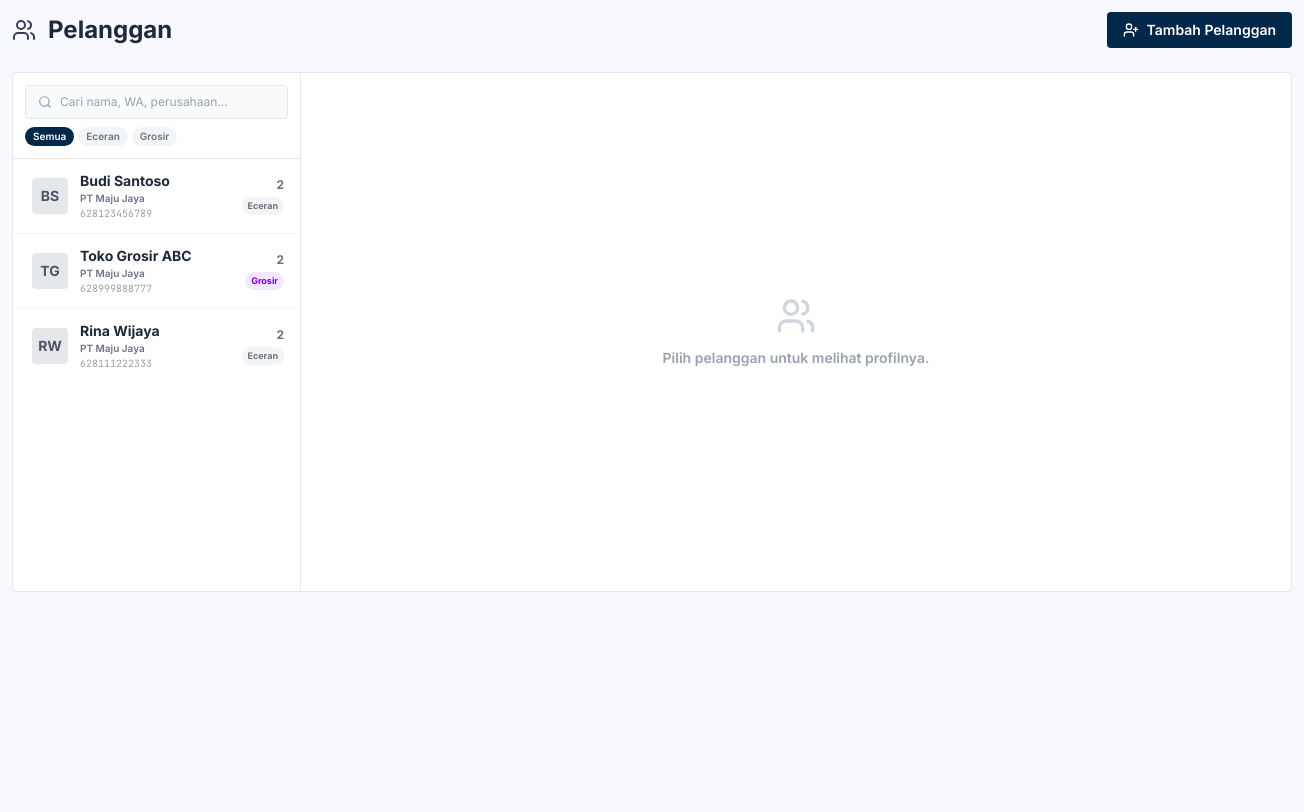
Test: PelangganScreen — tier dropdown › modul ON + filter=Grosir → only grosir customers visible
Check: the text "Budi Santoso" is shown, box [80,172,170,189]
Check: the text "Toko Grosir ABC" is shown, box [80,247,192,264]
// Click the Grosir filter chip
Click the button "Grosir" at (154, 136), box [132,127,177,146]
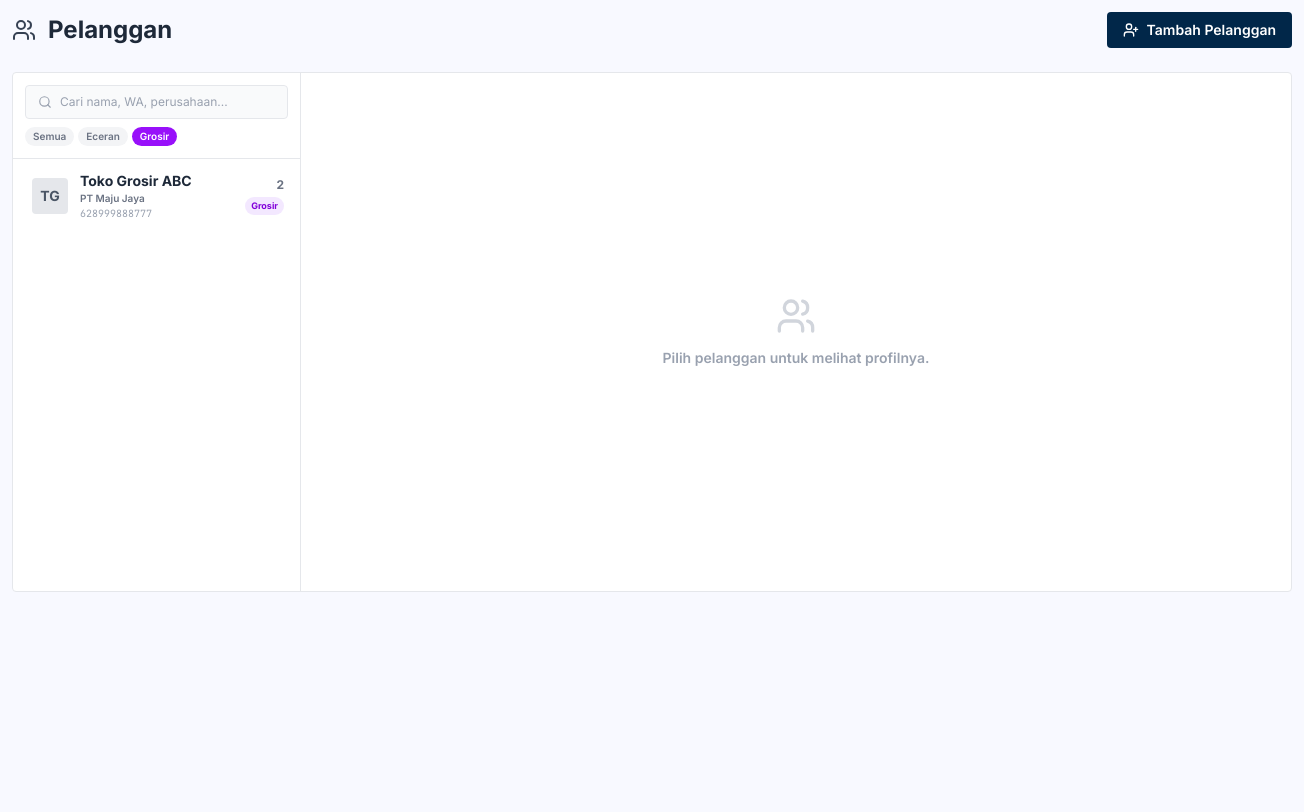
Check: the text "Toko Grosir ABC" is shown, box [80,172,192,189]
Check: the text "Budi Santoso" is gone
Check: the text "Rina Wijaya" is gone
